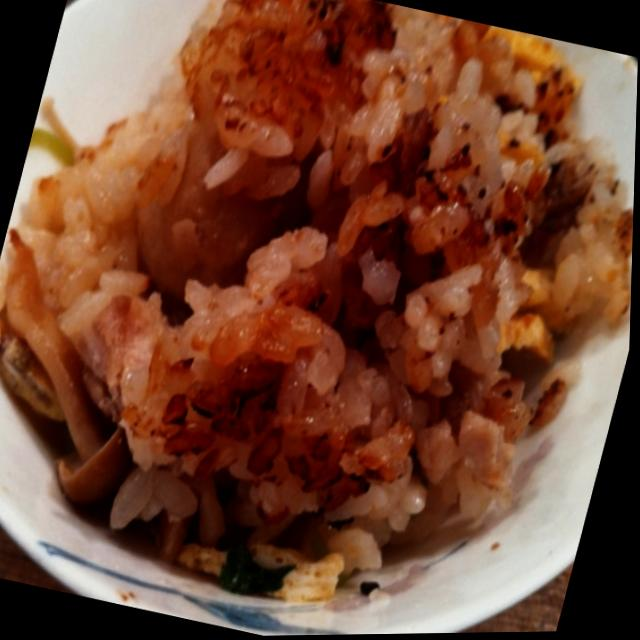猪肉菜式: (0, 10, 640, 640)
